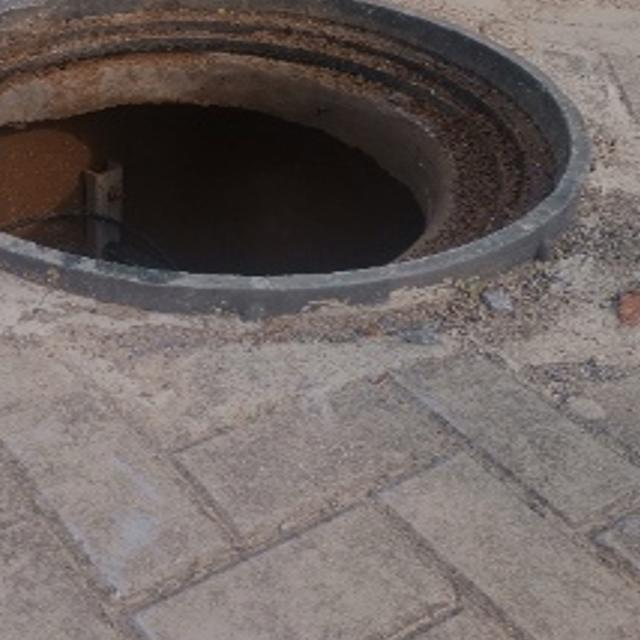lose: (0, 0, 588, 310)
